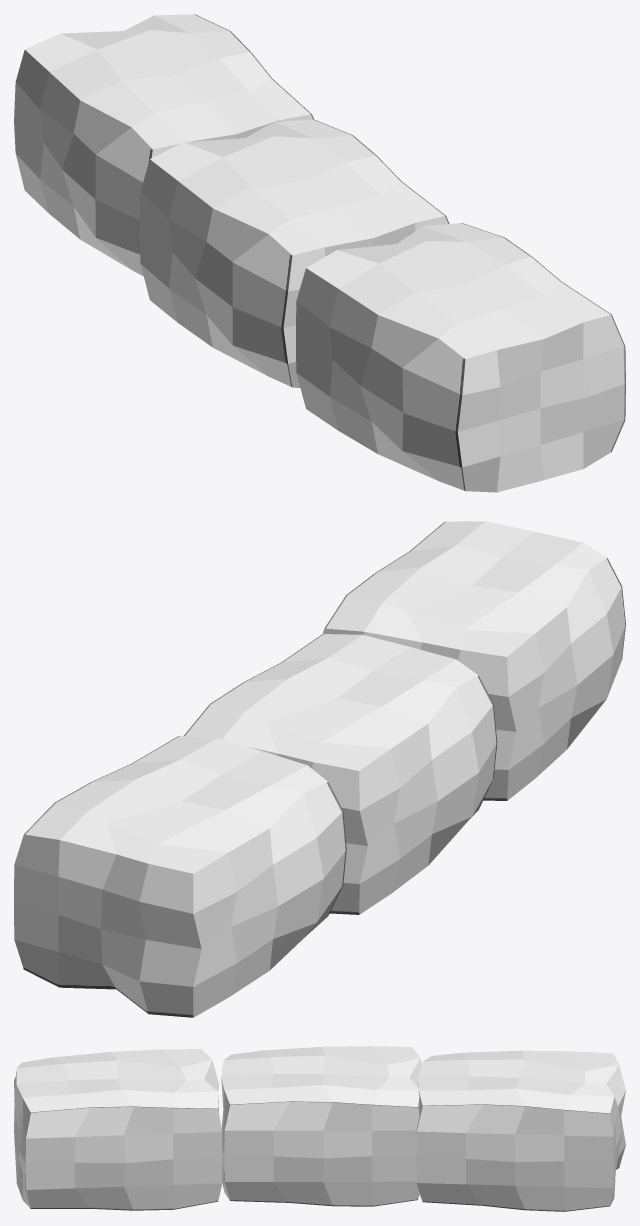
The model's file is Steinmauer_einzelne_Brocken.fbx.
3 renders of one model, top to bottom at view 1: azimuth 30°, elevation 25°; view 2: azimuth 150°, elevation 25°; view 3: azimuth 270°, elevation 25°, orthographic. The views are drawn at different scales.
Parts seen in each view (by area): view 1: Steinblock.005; view 2: Steinblock.005; view 3: Steinblock.005.
Boxes of the visible parts, box(x1,y1,x2,y2) form: Steinblock.005: box(14, 14, 625, 492); Steinblock.005: box(14, 521, 625, 1017); Steinblock.005: box(14, 1046, 625, 1211).
Size of the model in its own units: 124 by 89.21 by 435.
